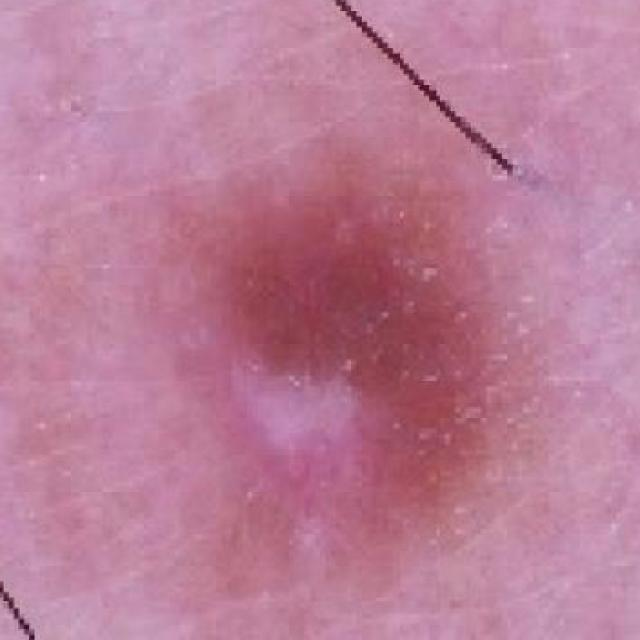DF: (40, 64, 571, 640)
